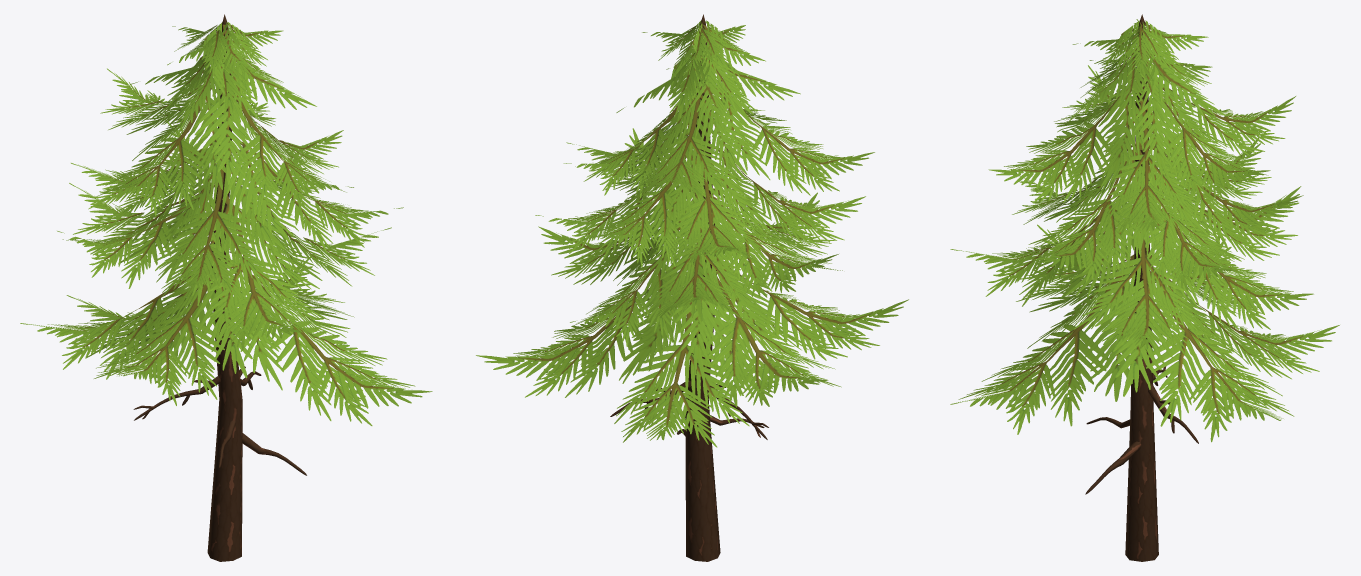
File: pine-1.glb
3 views of the same model, side by side, from view 1: azimuth 30°, elevation 25°; view 2: azimuth 150°, elevation 25°; view 3: azimuth 270°, elevation 25° (orthographic).
Visible parts, largest first — view 1: PineTree_1; view 2: PineTree_1; view 3: PineTree_1.
Boxes of the visible parts, bbox=[...] form: PineTree_1: bbox=[20, 14, 432, 561]; PineTree_1: bbox=[476, 14, 908, 561]; PineTree_1: bbox=[950, 14, 1339, 561].
Size of the model in its own units: 2.98 by 4.5 by 3.03.
Materials: 2 (2 with a texture image).
